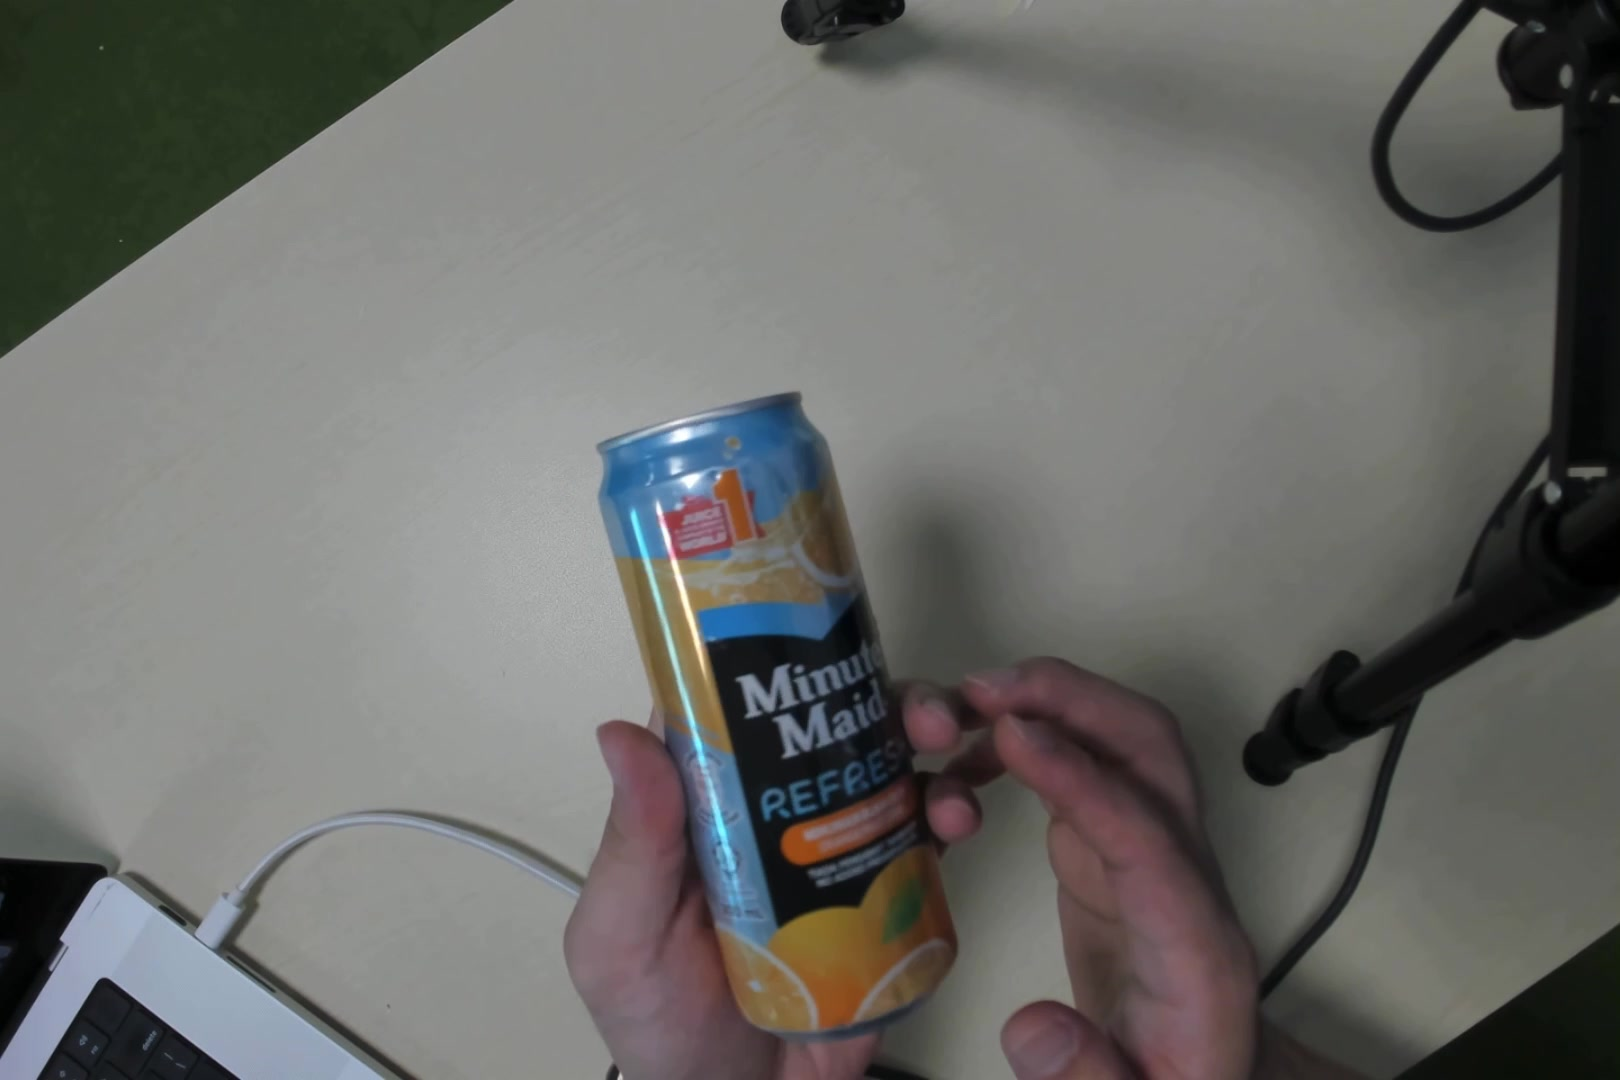SoftDrinks_200-299g_Halal_Healthy: (606, 399, 979, 985)
